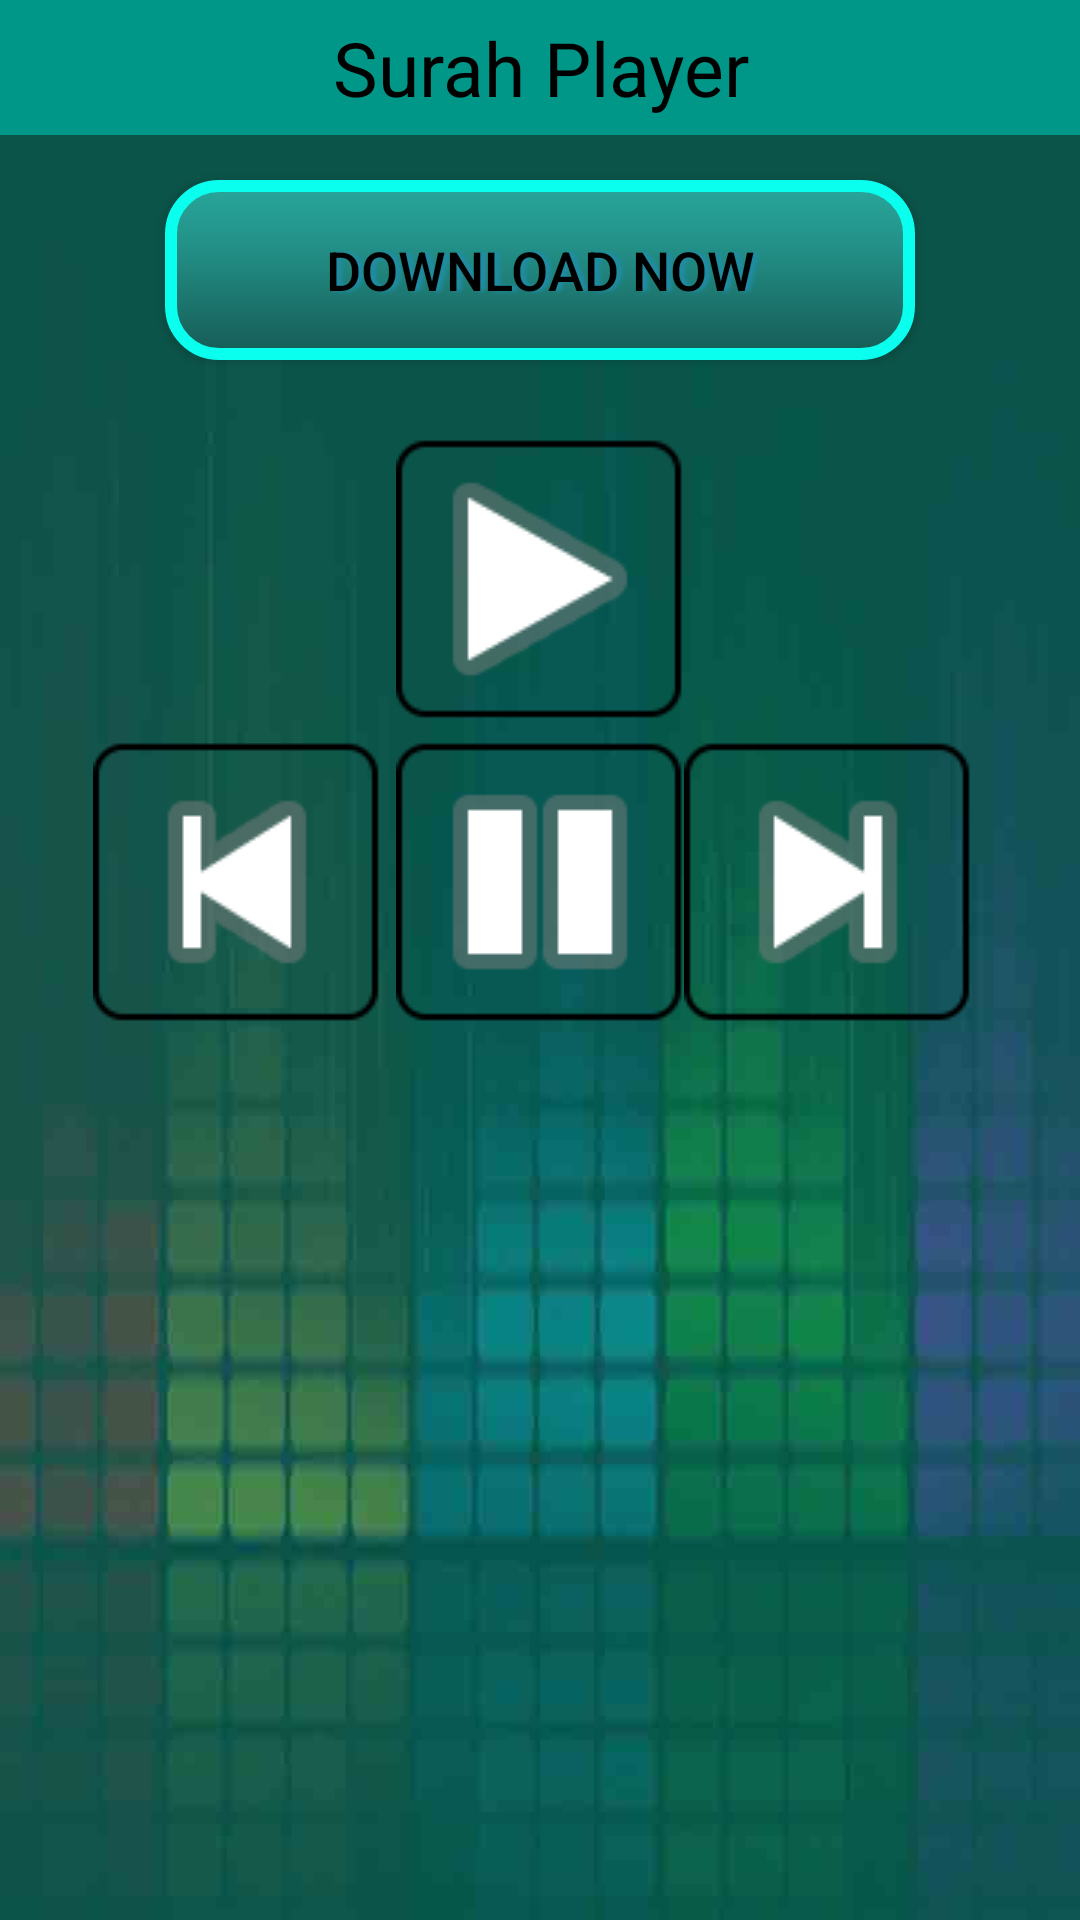

Screen size 1080px×1920px. Icon name, then its box in pixels as (x1, y1, x2, y2):
backfinal: (93, 743, 379, 1021)
forwardfinal: (684, 743, 970, 1021)
pausefinal: (396, 738, 684, 1026)
